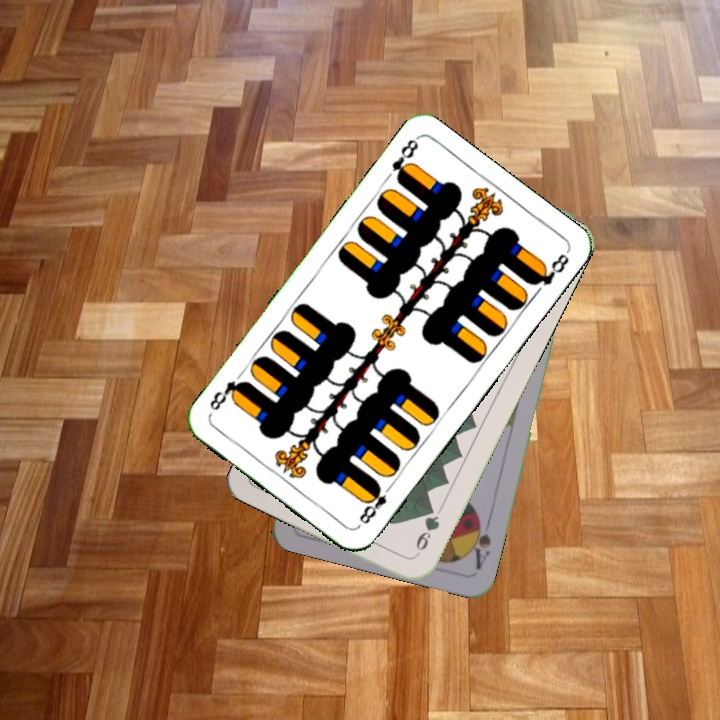E8: (355, 479, 396, 527), (387, 134, 422, 186)
G9: (412, 502, 442, 559)
SA: (465, 513, 493, 572)
